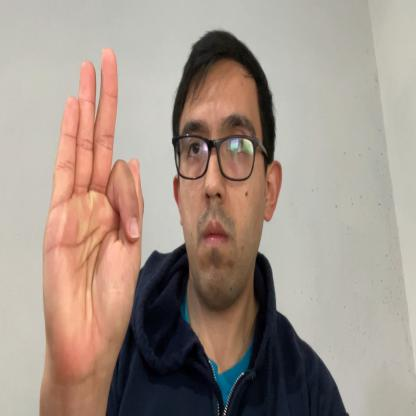F: (43, 47, 144, 384)
